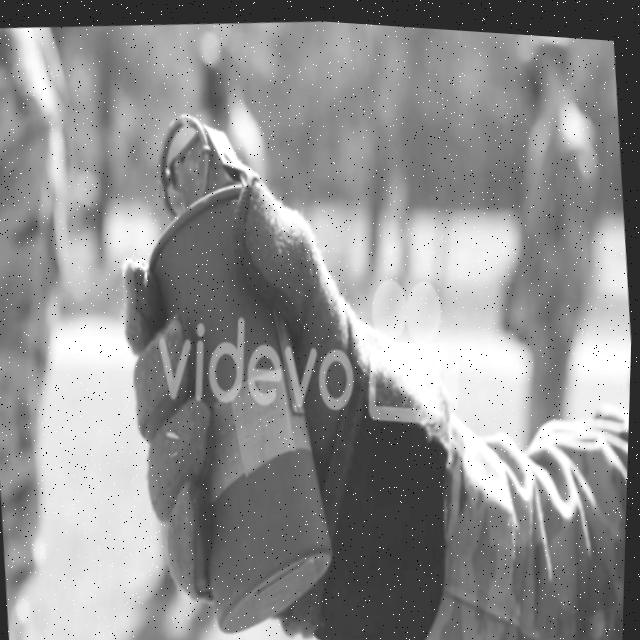grenade: (80, 85, 390, 640)
